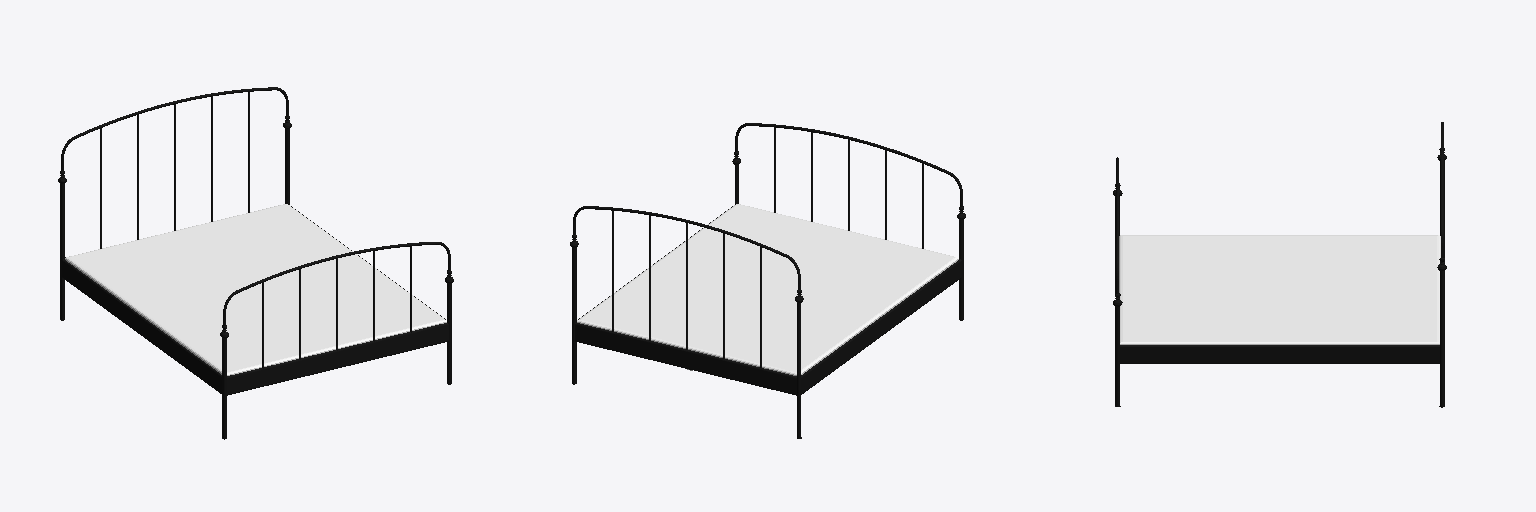
The picture shows the model from 3 angles: view 1: azimuth 30°, elevation 25°; view 2: azimuth 150°, elevation 25°; view 3: azimuth 270°, elevation 25°; orthographic projection.
Visible parts, largest first — view 1: Mesh8 Komponente_11_1 Komponente_12_1 Model, Mesh19 Komponente_2_1 Komponente_12_1 Model, Mesh10 Komponente_8_2 Komponente_12_1 Model, Mesh21 Komponente_7_1 Komponente_12_1 Model, Mesh11 Komponente_4_1 Komponente_12_1 Model, Mesh20 Komponente_1_1 Komponente_12_1 Model, Mesh9 Komponente_6_1 Komponente_12_1 Model; view 2: Mesh8 Komponente_11_1 Komponente_12_1 Model, Mesh22 Komponente_2_2 Komponente_12_1 Model, Mesh10 Komponente_8_2 Komponente_12_1 Model, Mesh9 Komponente_6_1 Komponente_12_1 Model, Mesh21 Komponente_7_1 Komponente_12_1 Model, Mesh11 Komponente_4_1 Komponente_12_1 Model, Mesh20 Komponente_1_1 Komponente_12_1 Model; view 3: Mesh8 Komponente_11_1 Komponente_12_1 Model, Mesh1 Komponente_8_1 Komponente_12_1 Model, Mesh9 Komponente_6_1 Komponente_12_1 Model, Mesh20 Komponente_1_1 Komponente_12_1 Model.
Part boxes in pixels (x1,y1,x2,y2): Mesh8 Komponente_11_1 Komponente_12_1 Model: (65,204,446,375); Mesh19 Komponente_2_1 Komponente_12_1 Model: (227,323,448,395); Mesh10 Komponente_8_2 Komponente_12_1 Model: (62,259,221,393); Mesh21 Komponente_7_1 Komponente_12_1 Model: (58,101,175,319); Mesh11 Komponente_4_1 Komponente_12_1 Model: (220,255,337,438); Mesh20 Komponente_1_1 Komponente_12_1 Model: (337,242,453,383); Mesh9 Komponente_6_1 Komponente_12_1 Model: (175,87,291,204); Mesh8 Komponente_11_1 Komponente_12_1 Model: (577,204,958,375); Mesh22 Komponente_2_2 Komponente_12_1 Model: (575,323,796,395); Mesh10 Komponente_8_2 Komponente_12_1 Model: (801,259,961,394); Mesh9 Komponente_6_1 Komponente_12_1 Model: (570,206,685,383); Mesh21 Komponente_7_1 Komponente_12_1 Model: (686,220,803,438); Mesh11 Komponente_4_1 Komponente_12_1 Model: (848,137,965,319); Mesh20 Komponente_1_1 Komponente_12_1 Model: (732,123,848,204); Mesh8 Komponente_11_1 Komponente_12_1 Model: (1119,235,1440,344); Mesh1 Komponente_8_1 Komponente_12_1 Model: (1120,345,1439,363); Mesh9 Komponente_6_1 Komponente_12_1 Model: (1437,161,1446,406); Mesh20 Komponente_1_1 Komponente_12_1 Model: (1113,196,1122,406).
Bounding box in the file's own units: 1673 × 1313 × 2081.